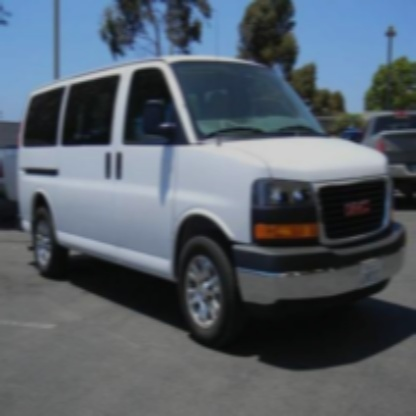Vehicle: (18, 56, 410, 350)
